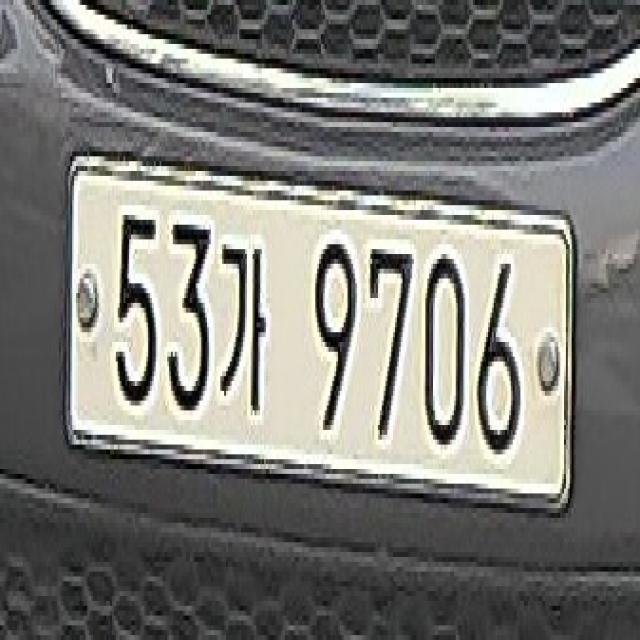0: (420, 235, 467, 454)
3: (167, 205, 215, 430)
5: (116, 195, 163, 425)
6: (477, 230, 526, 469)
7: (357, 220, 416, 444)
9: (306, 220, 359, 449)
ga: (210, 220, 272, 415)
license_plate: (53, 142, 585, 522)
